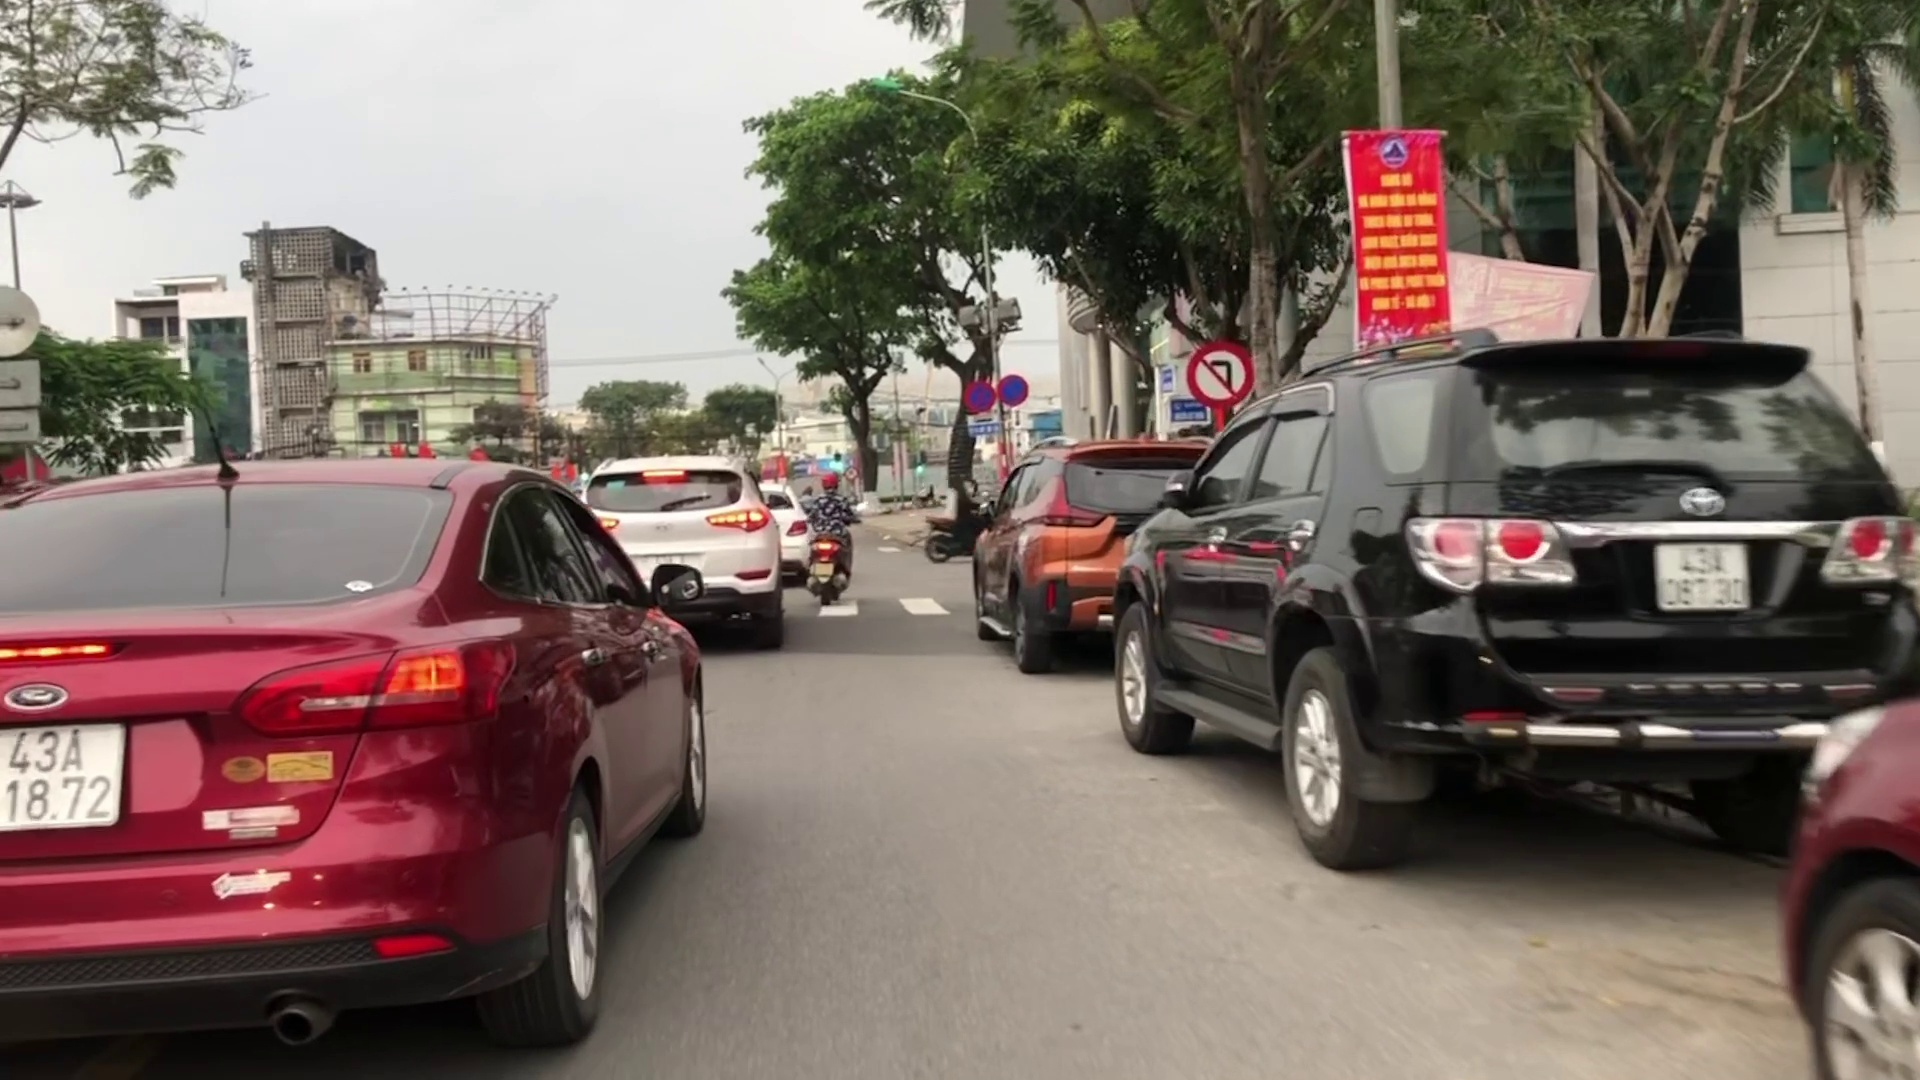Bien khac: (1188, 340, 1251, 411), (960, 376, 993, 411)
Cam do xe: (998, 373, 1026, 406)
